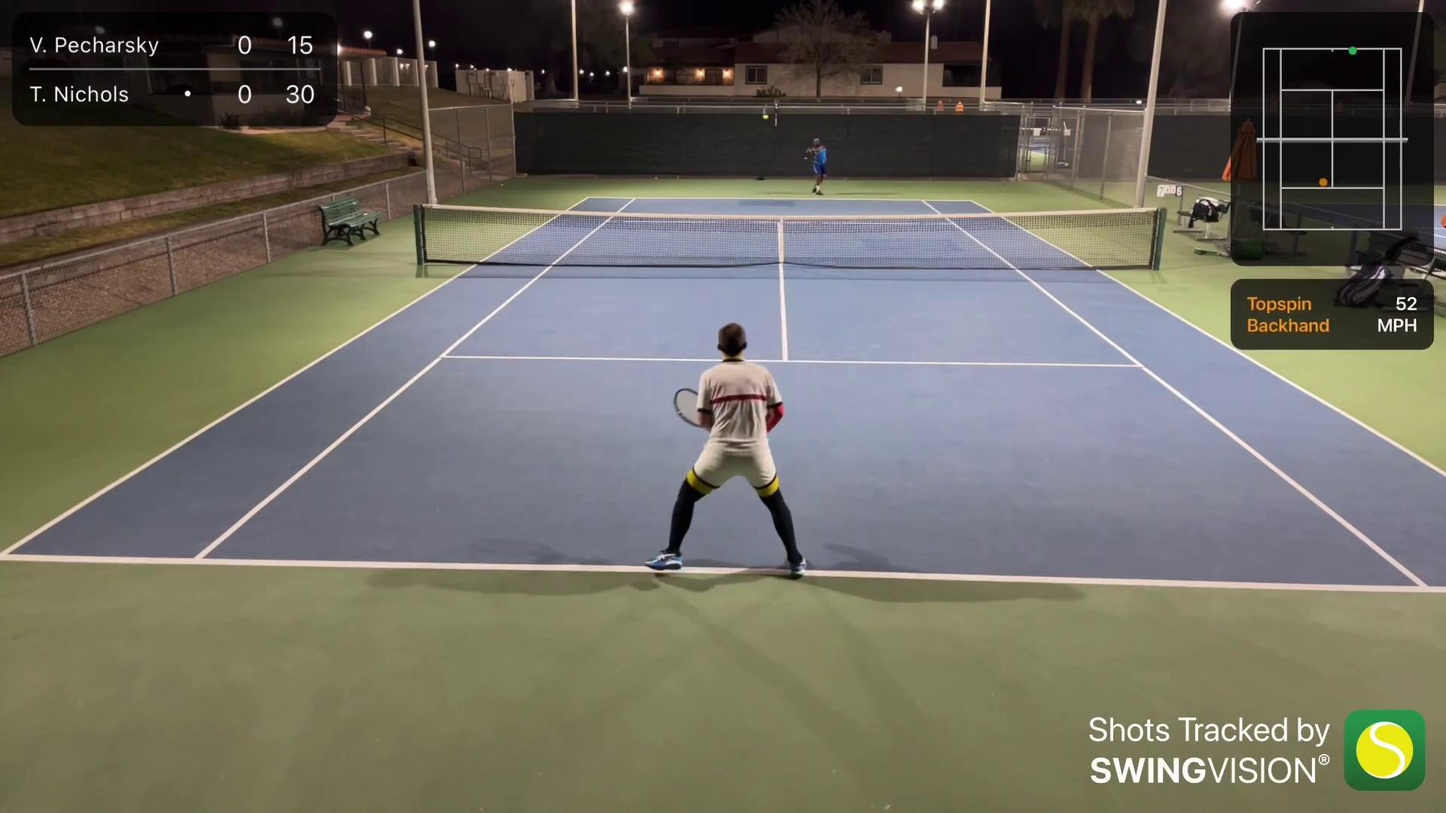ball: (760, 113, 767, 120)
